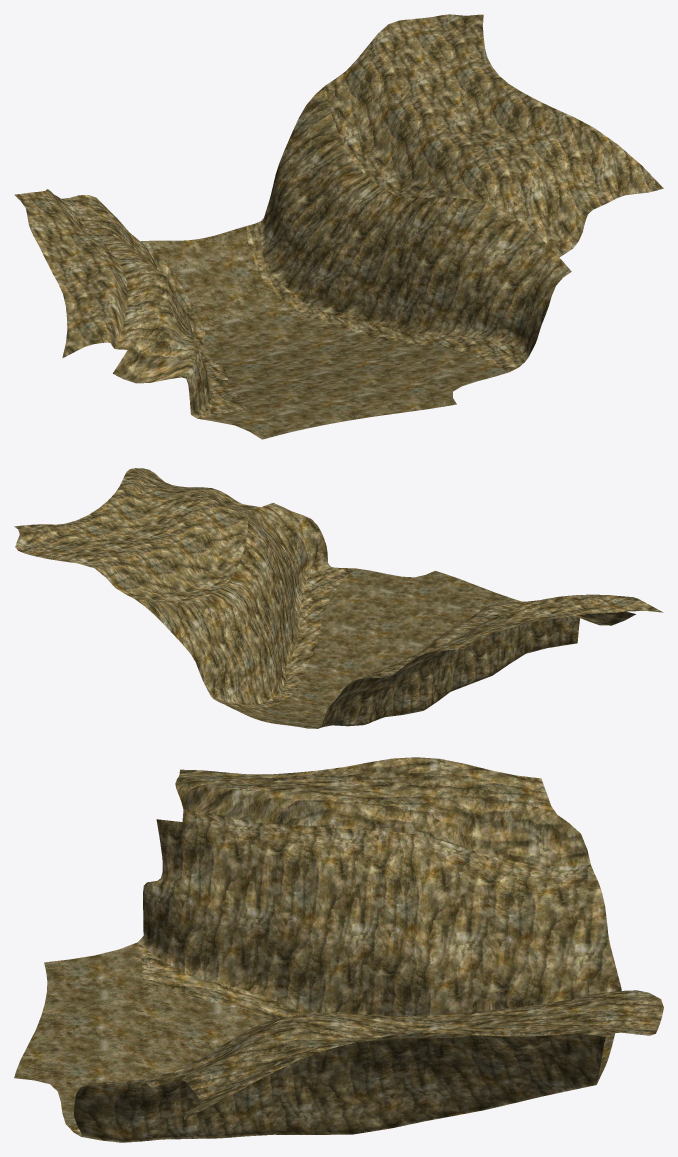
The model's file is RM_PLAYSURFACE_FINAL_OBJECT01.fbx.
3 renders of one model, top to bottom at view 1: azimuth 30°, elevation 25°; view 2: azimuth 150°, elevation 25°; view 3: azimuth 270°, elevation 25°, orthographic. The views are drawn at different scales.
Visible parts, largest first — view 1: RM_PLAYSURFACE_FINAL_OBJECT01; view 2: RM_PLAYSURFACE_FINAL_OBJECT01; view 3: RM_PLAYSURFACE_FINAL_OBJECT01.
Boxes of the visible parts, bbox=[...] form: RM_PLAYSURFACE_FINAL_OBJECT01: bbox=[14, 14, 663, 439]; RM_PLAYSURFACE_FINAL_OBJECT01: bbox=[14, 468, 663, 728]; RM_PLAYSURFACE_FINAL_OBJECT01: bbox=[14, 757, 663, 1142].
Bounding box in the file's own units: 545842 × 160856 × 396703.
Materials: 3 (3 with a texture image).
